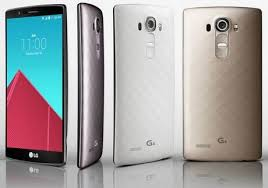lg: (180, 1, 264, 163), (2, 2, 69, 169), (111, 3, 178, 170)
